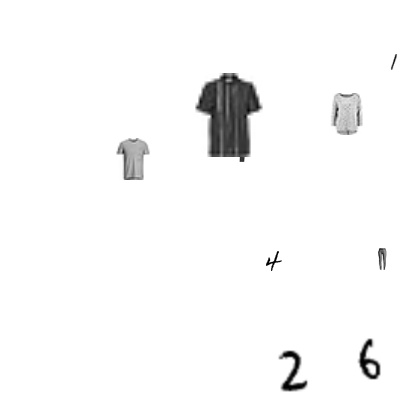1: (383, 50, 405, 72)
2: (263, 345, 319, 401)
4: (259, 247, 287, 275)
6: (340, 333, 396, 389)
Dress: (236, 148, 250, 162)
Pullover: (325, 93, 367, 135)
Shirt: (187, 73, 271, 157)
T-shirt/top: (112, 138, 154, 180)
Trouser: (371, 248, 393, 270)
